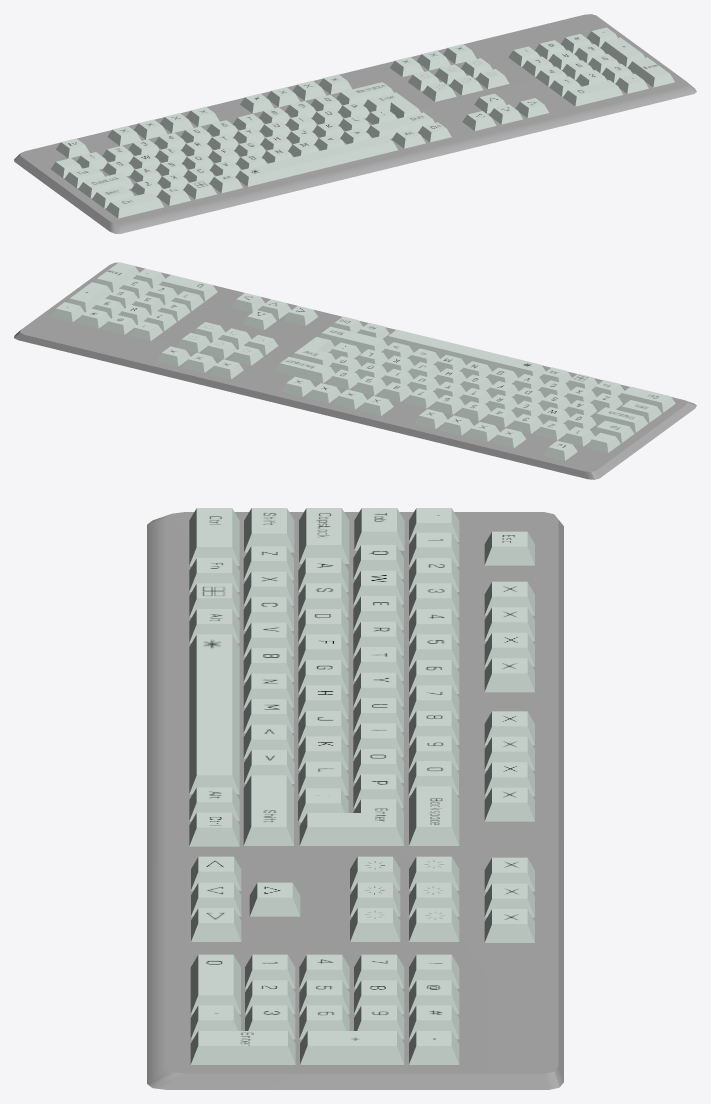
File: klaviatura.fbx
3 views of the same model, one above another, from view 1: azimuth 30°, elevation 25°; view 2: azimuth 150°, elevation 25°; view 3: azimuth 270°, elevation 25° (orthographic). The views are drawn at different scales.
Visible parts, largest first — view 1: klava; view 2: klava; view 3: klava.
Part boxes in pixels (x1,y1,x2,y2): klava: (14, 14, 696, 233); klava: (14, 262, 696, 479); klava: (147, 508, 563, 1089).
Bounding box in the file's own units: 214 × 4.76 × 66.11.
Materials: 1 (1 with a texture image).
